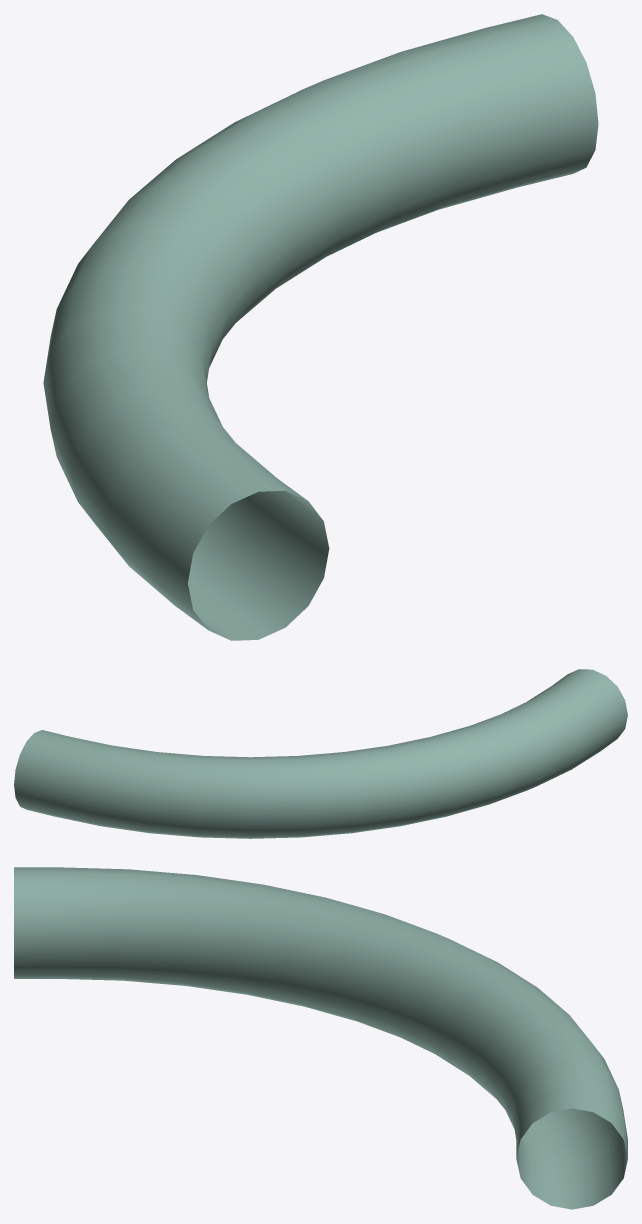
The model's file is PipeLarge_Bent_05.fbx.
3 views of the same model, one above another, from view 1: azimuth 30°, elevation 25°; view 2: azimuth 150°, elevation 25°; view 3: azimuth 270°, elevation 25° (orthographic). The views are drawn at different scales.
Parts seen in each view (by area): view 1: PipeLarge_Bent_05.001; view 2: PipeLarge_Bent_05.001; view 3: PipeLarge_Bent_05.001.
Part boxes in pixels (box(x1,y1,x2,y2)): PipeLarge_Bent_05.001: box(43, 14, 598, 640); PipeLarge_Bent_05.001: box(14, 669, 627, 838); PipeLarge_Bent_05.001: box(14, 867, 627, 1209).
Size of the model in its own units: 1.1 by 0.2 by 1.1.
